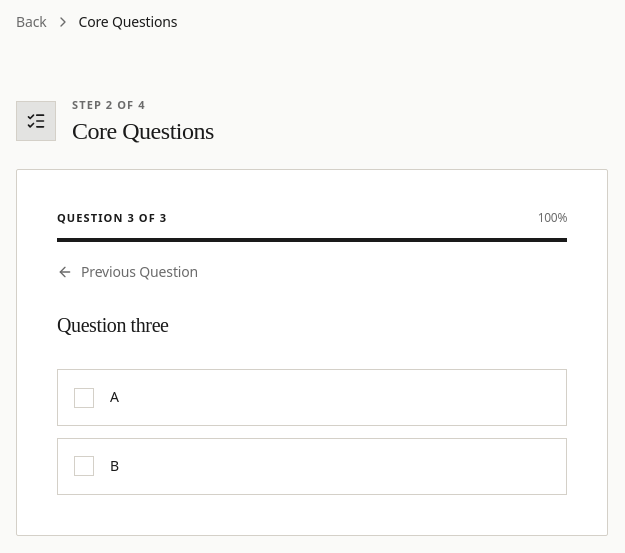
Test: question flow shows continue when user goes back to answered question
Expected: the text "Question 3 of 3" is shown, [57,211,167,226]
Click the button "Previous Question" at point(128, 272), box [45,254,210,290]
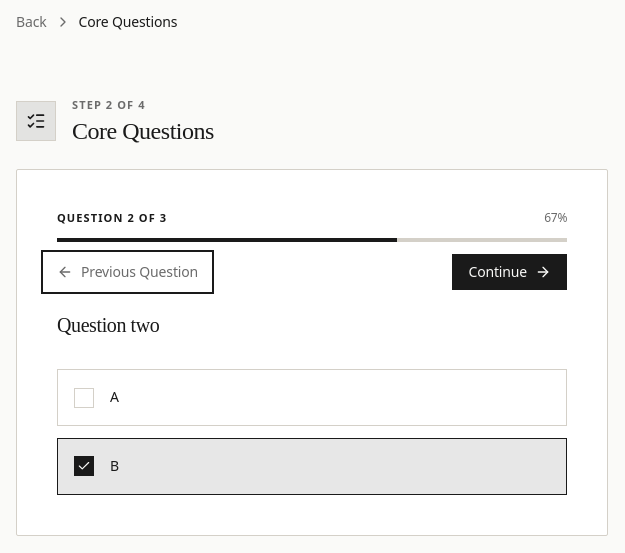
Expected: the text "Question 2 of 3" is shown, [57,211,167,226]
Expected: the button "Continue" is shown
Expected: the button "Continue" is enabled
Click the button "Continue" at point(510, 272), box [452,254,567,290]
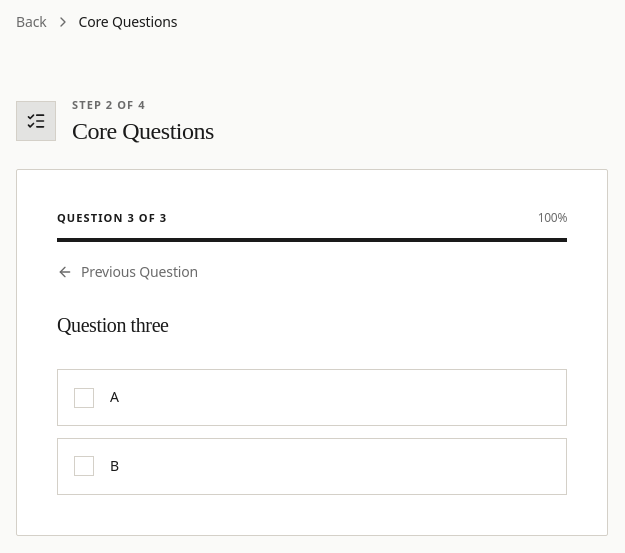
Expected: the text "Question 3 of 3" is shown, [57,211,167,226]
